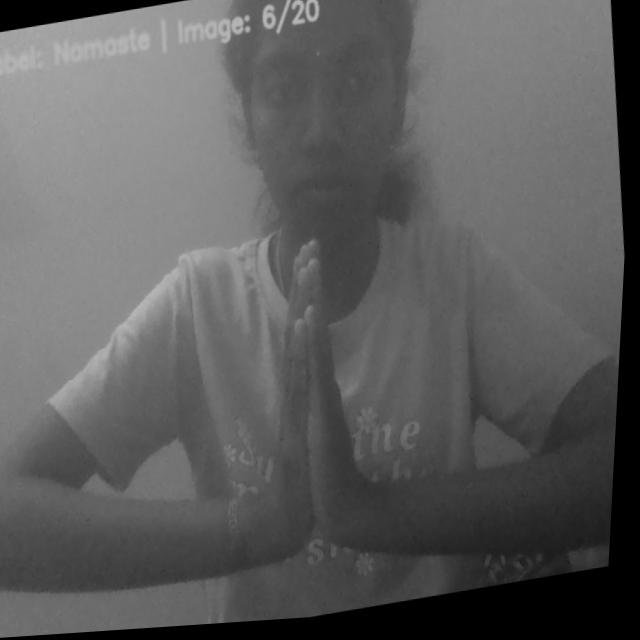Namaste: (236, 229, 395, 561)
